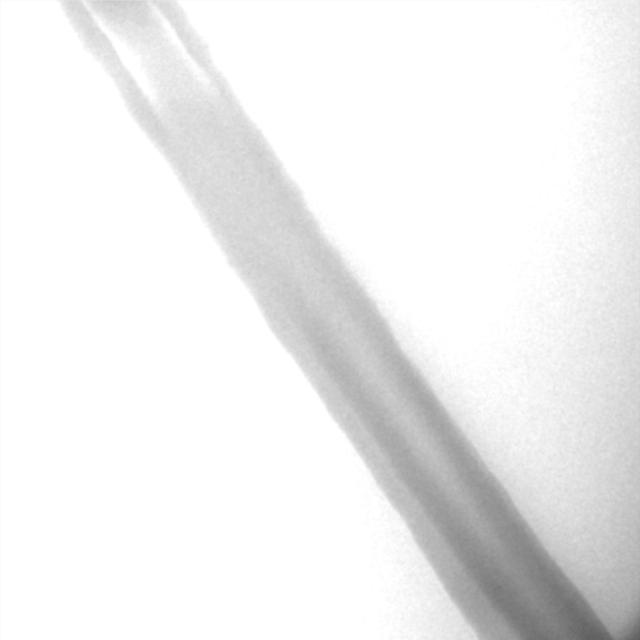unfused: (85, 0, 212, 121)
